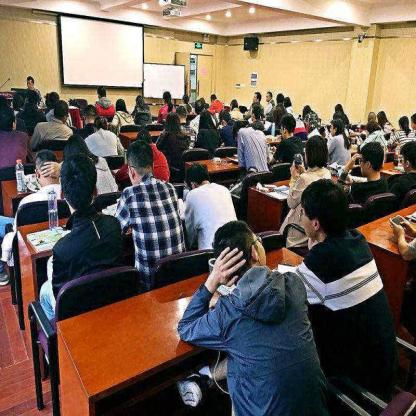head: (210, 217, 266, 286), (300, 175, 348, 243), (60, 154, 98, 210), (122, 141, 156, 181), (303, 133, 332, 173), (31, 151, 60, 188), (358, 138, 388, 173), (63, 132, 89, 168), (184, 158, 210, 191), (52, 100, 69, 124), (280, 112, 296, 137), (163, 110, 179, 134), (402, 140, 416, 166), (80, 103, 96, 125), (135, 126, 150, 149), (232, 118, 247, 140), (44, 90, 60, 110), (92, 115, 109, 133), (11, 92, 26, 112), (174, 102, 187, 125), (24, 87, 38, 106), (328, 117, 342, 135), (218, 107, 230, 127), (375, 107, 387, 127), (366, 120, 379, 138), (396, 113, 408, 132), (208, 91, 223, 106), (199, 110, 212, 127), (192, 94, 204, 112), (271, 101, 283, 119), (95, 83, 106, 101), (332, 103, 343, 121), (114, 96, 126, 112), (180, 90, 192, 106), (283, 95, 294, 112), (250, 105, 260, 122), (303, 104, 314, 119), (26, 76, 36, 92), (366, 108, 376, 124), (161, 89, 172, 103), (135, 94, 144, 110), (251, 92, 261, 106), (275, 90, 284, 105), (264, 87, 273, 101), (229, 97, 238, 110)
